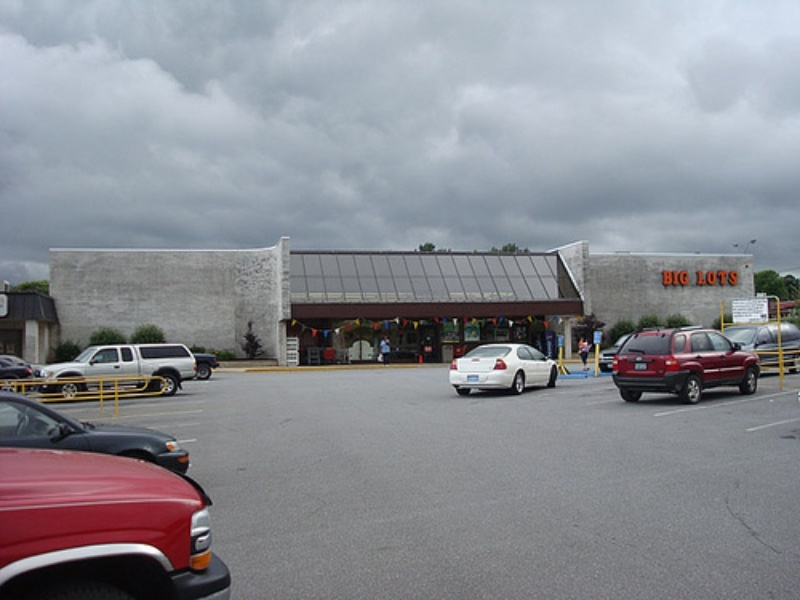text: (753, 298, 769, 319), (737, 298, 752, 319), (673, 268, 688, 285), (705, 269, 720, 285), (721, 269, 736, 285), (663, 268, 672, 285), (697, 269, 704, 285), (732, 298, 736, 319), (737, 269, 740, 285), (689, 268, 690, 285)
